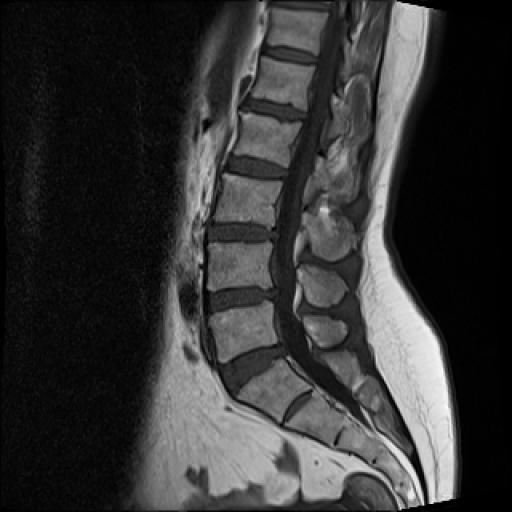L1: (252, 56, 314, 110)
L2: (234, 113, 301, 166)
L3: (215, 173, 282, 228)
L4: (207, 243, 273, 290)
L5: (210, 302, 277, 362)
S1: (237, 358, 310, 422)
